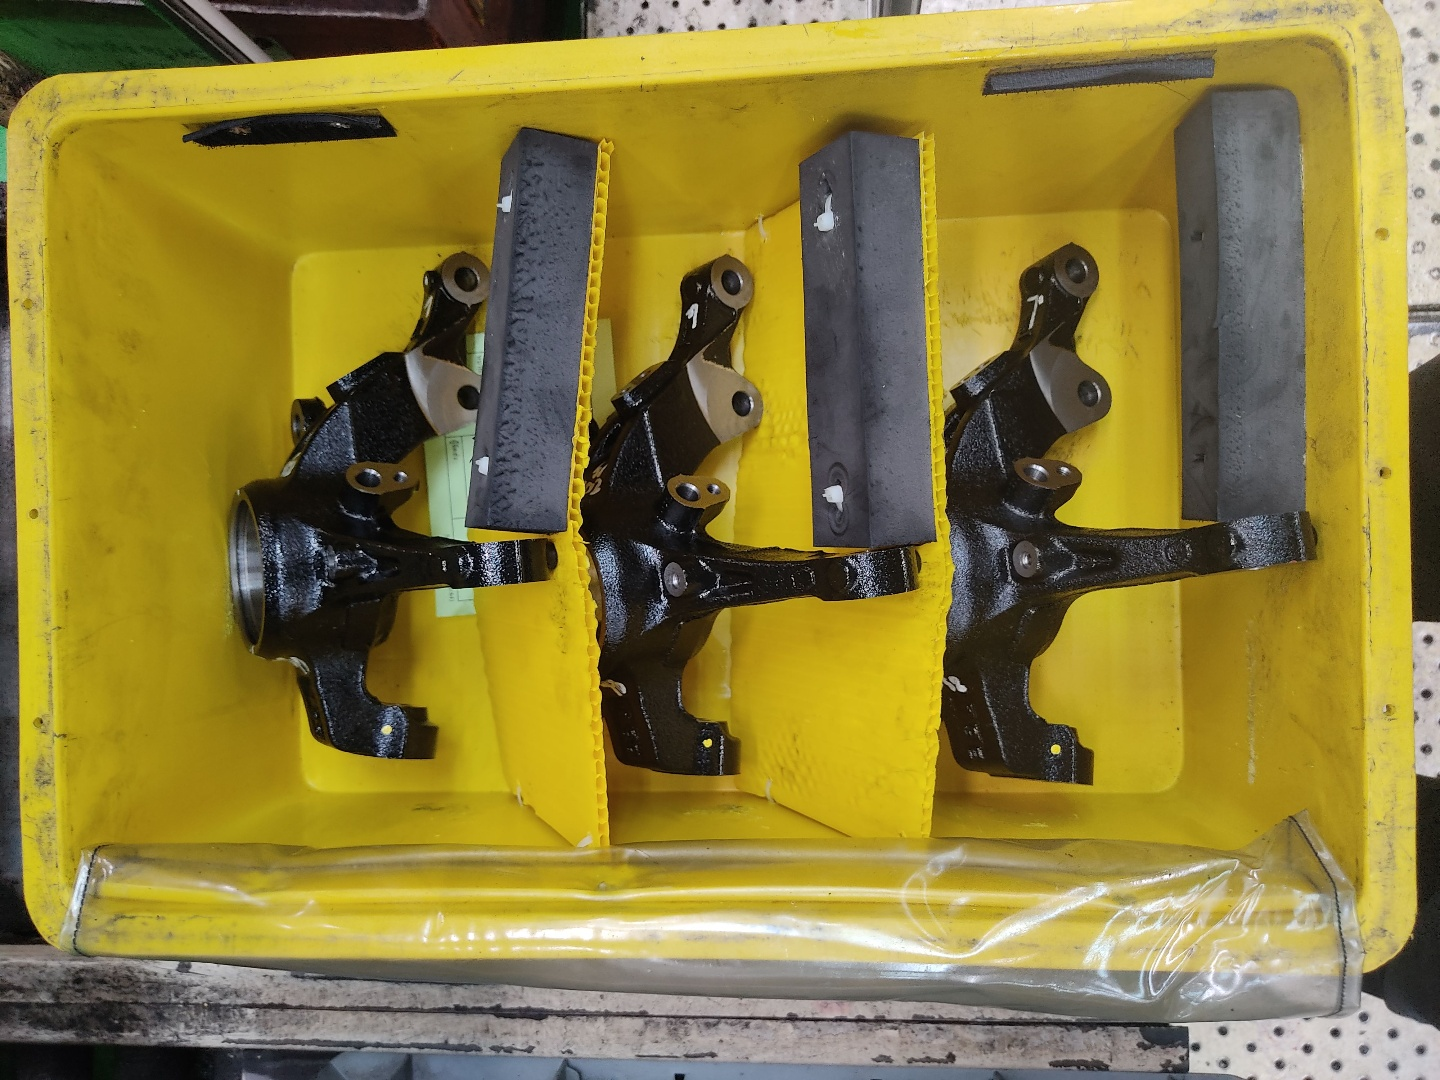abs-lh: (937, 228, 1328, 795), (571, 246, 924, 782), (221, 242, 558, 774)
